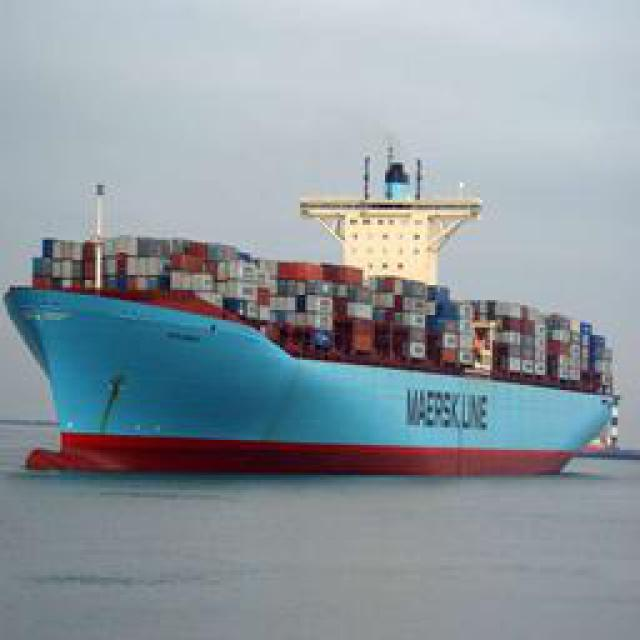Ship: (6, 161, 629, 464)
